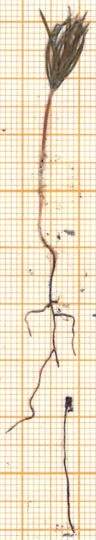flower: (35, 0, 92, 96)
root: (3, 230, 85, 443)
stem: (26, 95, 63, 233)
